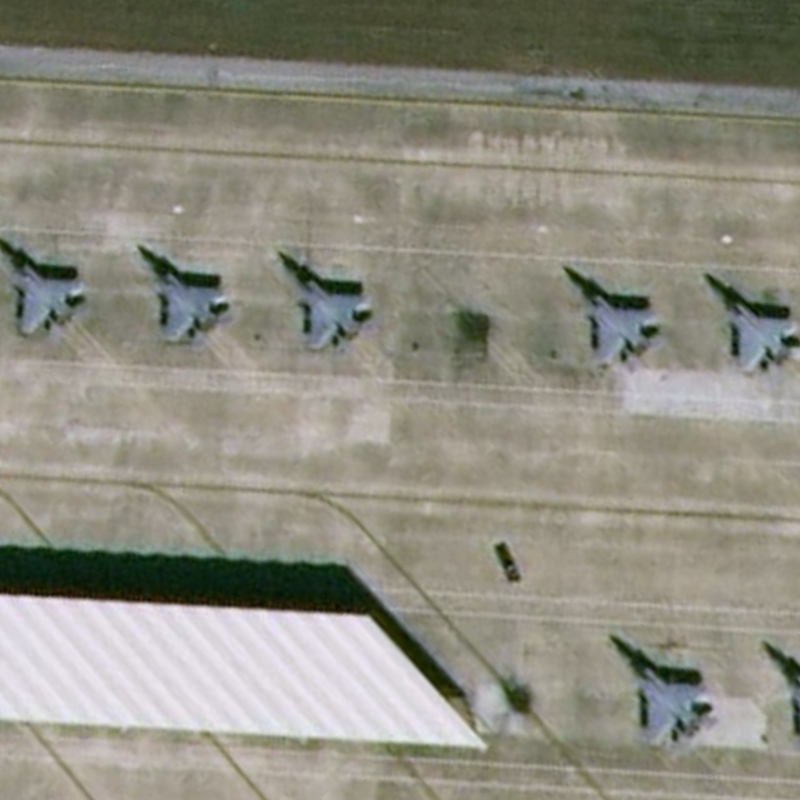A13: (603, 630, 723, 754), (558, 262, 669, 372), (700, 266, 800, 382), (272, 245, 377, 355), (134, 241, 237, 352), (1, 233, 89, 348)
